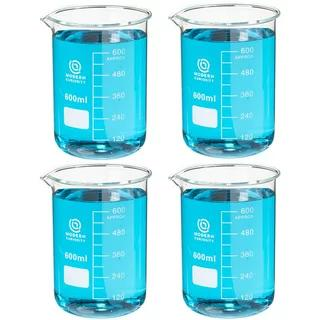Beaker: (163, 7, 283, 160), (35, 8, 154, 160), (33, 165, 153, 314), (169, 169, 278, 314)
